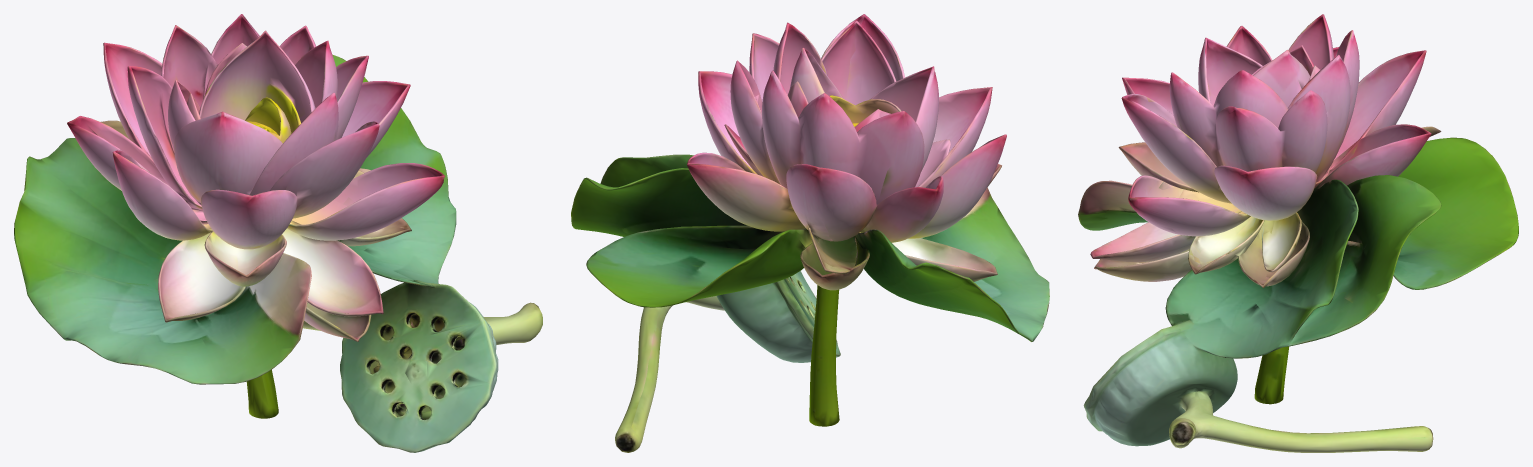
The model's file is hehua.glb.
3 renders of one model, left to right at view 1: azimuth 30°, elevation 25°; view 2: azimuth 150°, elevation 25°; view 3: azimuth 270°, elevation 25°, orthographic. The views are drawn at different scales.
Visible parts, largest first — view 1: node_0; view 2: node_0; view 3: node_0.
Part boxes in pixels (box(x1,y1,x2,y2)): node_0: box(14, 14, 542, 452); node_0: box(571, 14, 1049, 452); node_0: box(1078, 14, 1518, 452).
Size of the model in its own units: 0.9704 by 0.7872 by 0.882.
Materials: 1 (1 with a texture image).
